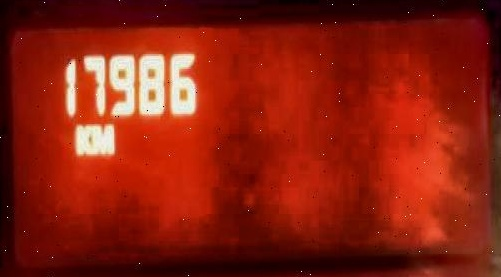1: (62, 55, 76, 117)
6: (165, 50, 197, 117)
7: (80, 50, 105, 117)
8: (136, 50, 165, 115)
9: (106, 50, 135, 115)
X: (91, 122, 115, 155), (72, 120, 91, 157)
